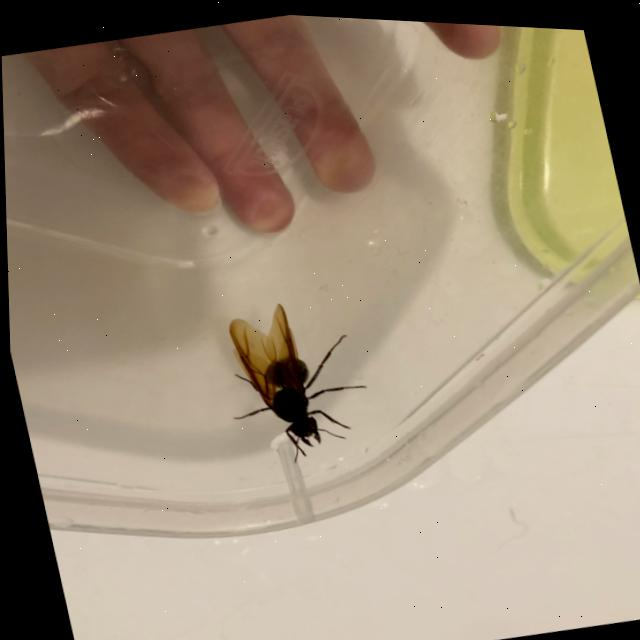Alive-Female-Alate: (207, 284, 380, 474)
